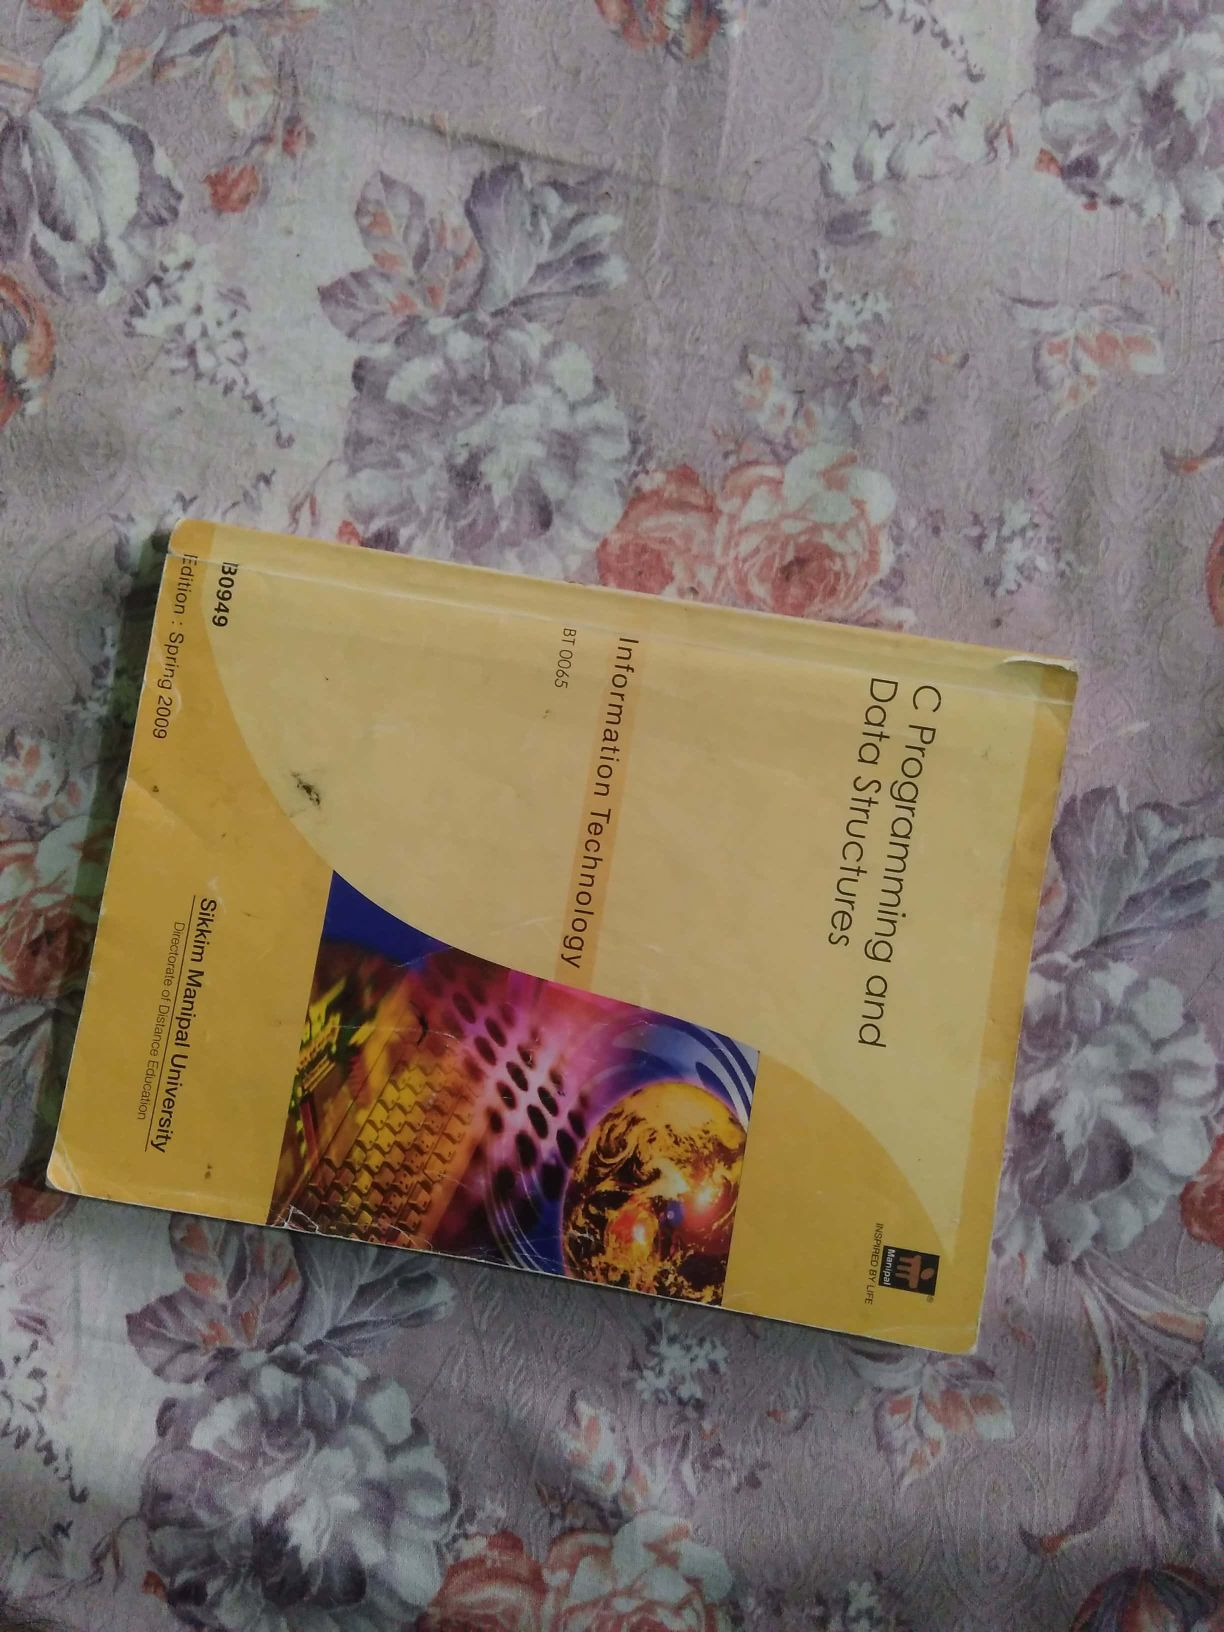clang: (44, 522, 1083, 1405)
